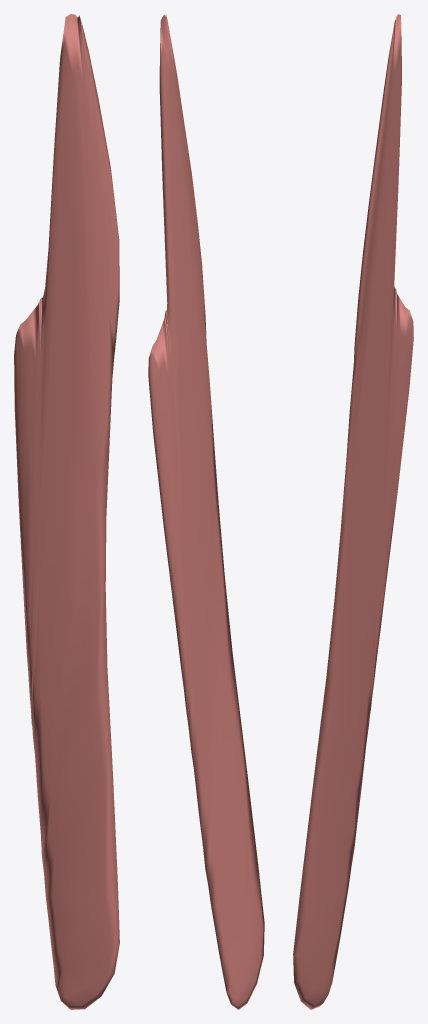
3 renders of one model, left to right at view 1: azimuth 90°, elevation 25°; view 2: azimuth 150°, elevation 25°; view 3: azimuth 330°, elevation 25°, orthographic. The views are drawn at different scales.
Parts seen in each view (by area): view 1: ZA_2bb2f7150291c359; view 2: ZA_2bb2f7150291c359; view 3: ZA_2bb2f7150291c359.
Boxes of the visible parts, x1,y1,x2,y2 form: ZA_2bb2f7150291c359: (14, 14, 119, 1009); ZA_2bb2f7150291c359: (148, 15, 264, 1009); ZA_2bb2f7150291c359: (293, 14, 413, 1009).
Bounding box in the file's own units: 0.00751 × 0.0873 × 0.00873.
